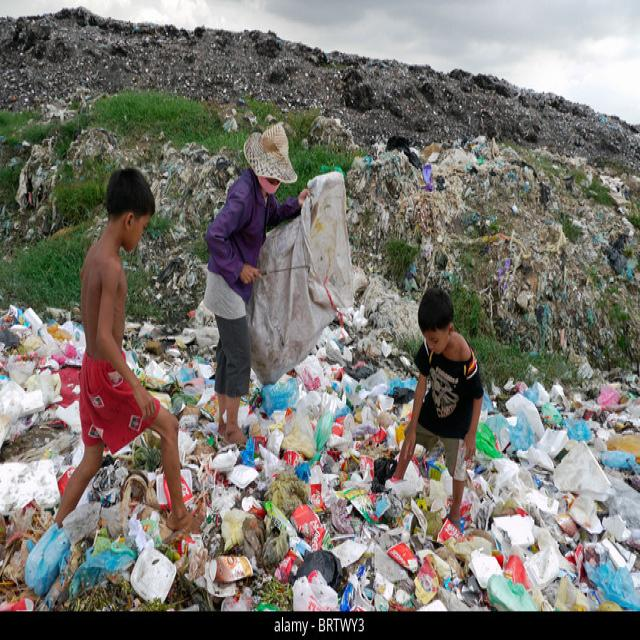plastic: (20, 534, 60, 583)
trash: (270, 432, 620, 597), (375, 132, 630, 289), (270, 180, 350, 397), (5, 312, 75, 410), (142, 334, 206, 385)
